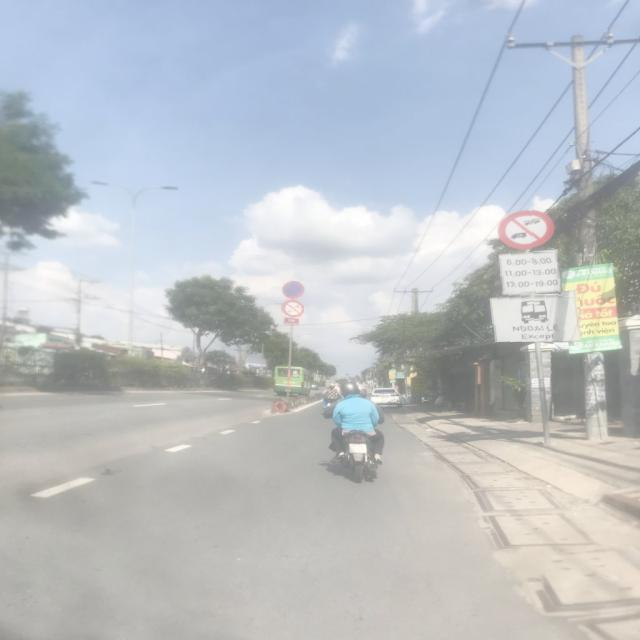107-cam-oto-khach-va-oto-tai: (498, 209, 554, 250)
